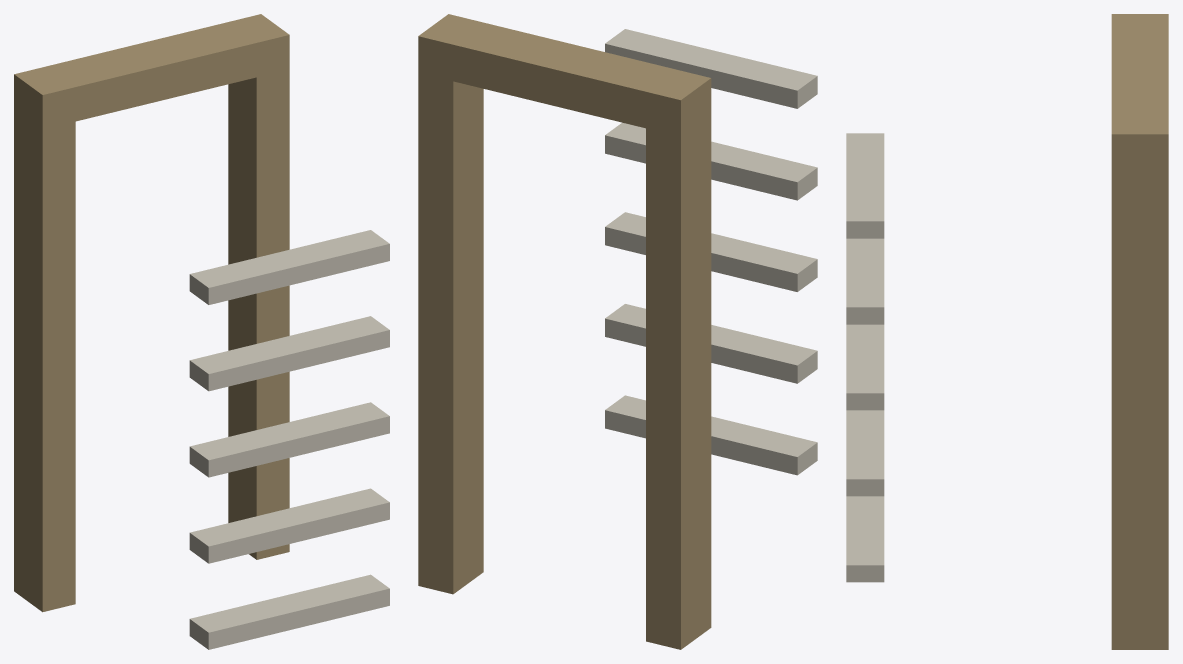
The model's file is telar_01.glb.
3 views of the same model, side by side, from view 1: azimuth 30°, elevation 25°; view 2: azimuth 150°, elevation 25°; view 3: azimuth 270°, elevation 25° (orthographic). The views are drawn at different scales.
Parts seen in each view (by area): view 1: telar; view 2: telar; view 3: telar.
Boxes of the visible parts, x1,y1,x2,y2 form: telar: [14, 14, 389, 649]; telar: [418, 14, 817, 649]; telar: [846, 14, 1168, 649].
Bounding box in the file's own units: 1 × 2 × 1.13.
